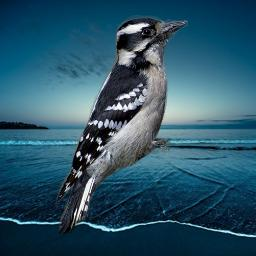Woodpecker: (56, 14, 188, 237)
